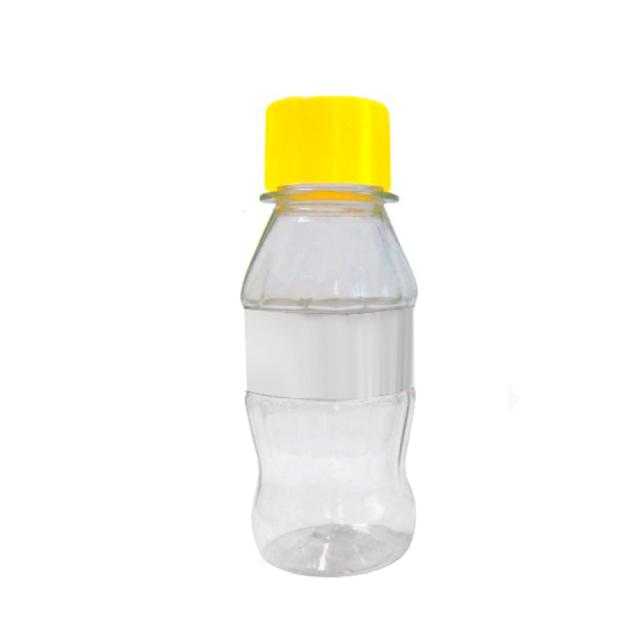bottle: (241, 96, 418, 576)
